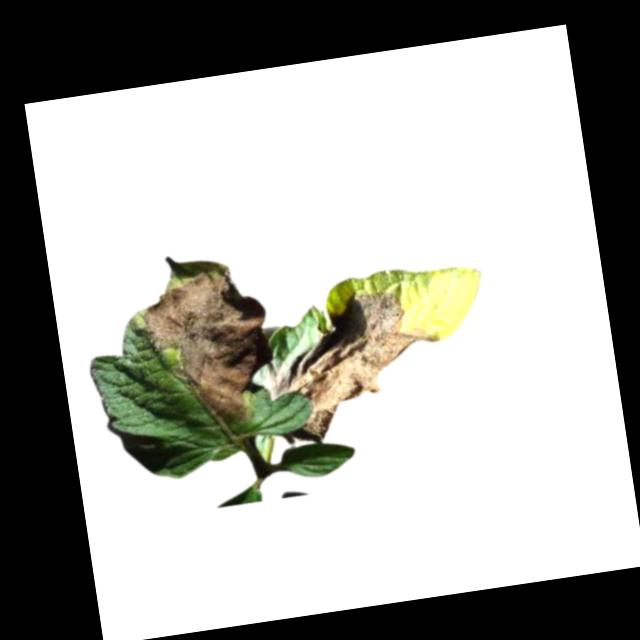Late_blight: (252, 278, 455, 449), (131, 241, 282, 437)
healthy: (277, 439, 357, 482)
